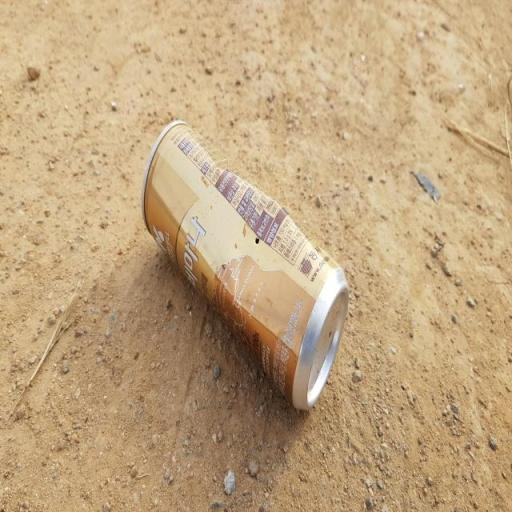metal: (103, 74, 367, 442)
